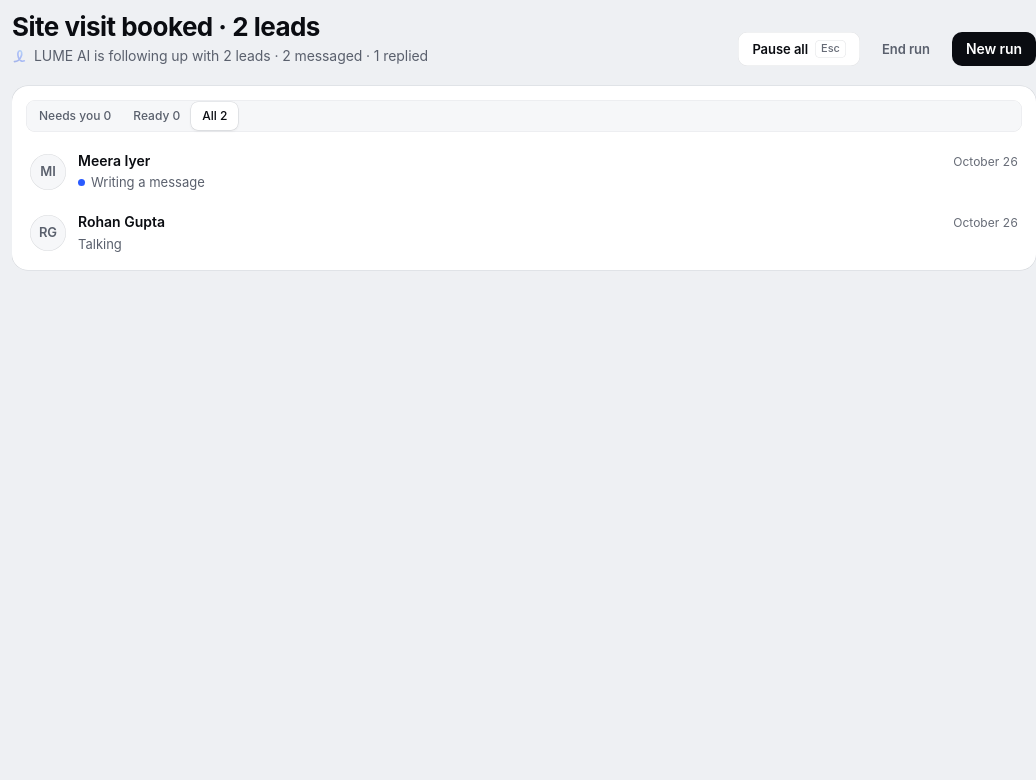
Test: AutopilotScreen › a phone: the list first; a lead opens its conversation, and Back returns to the list
Click the button "RG Rohan Gupta October 26 Talking" at (48, 233), box 20,203 -> 1028,262
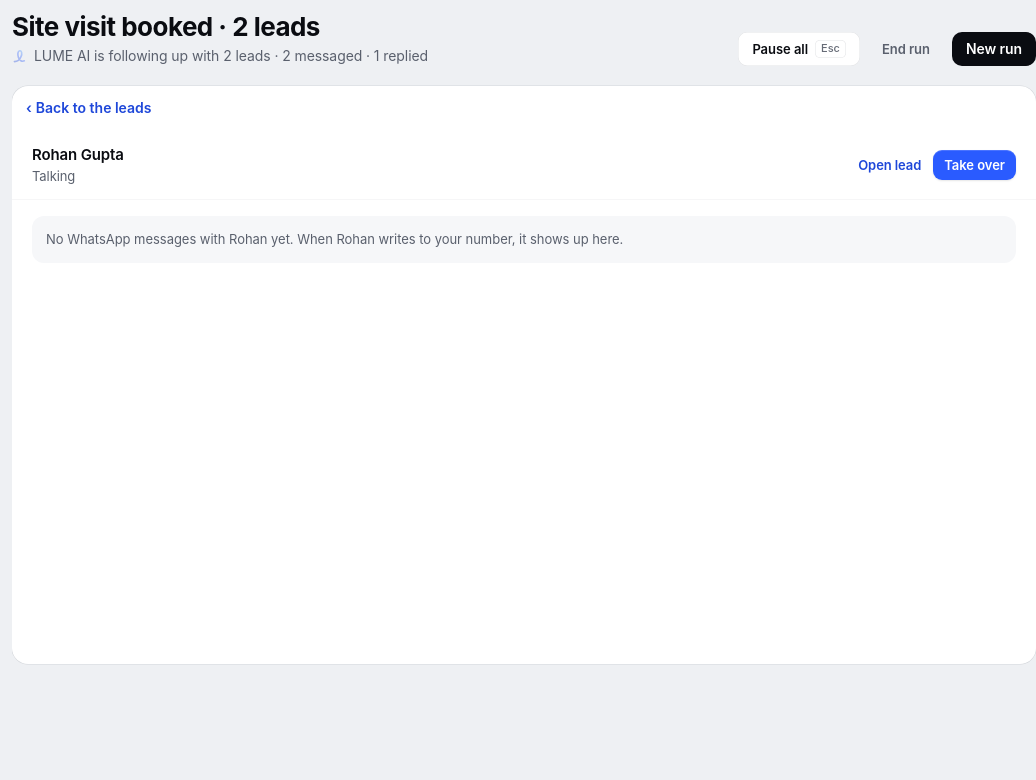
Expected: the element named "Conversation with Rohan Gupta" is shown, 12,130 -> 1035,263
Click the button "‹ Back to the leads" at (89, 108), box 12,86 -> 166,130
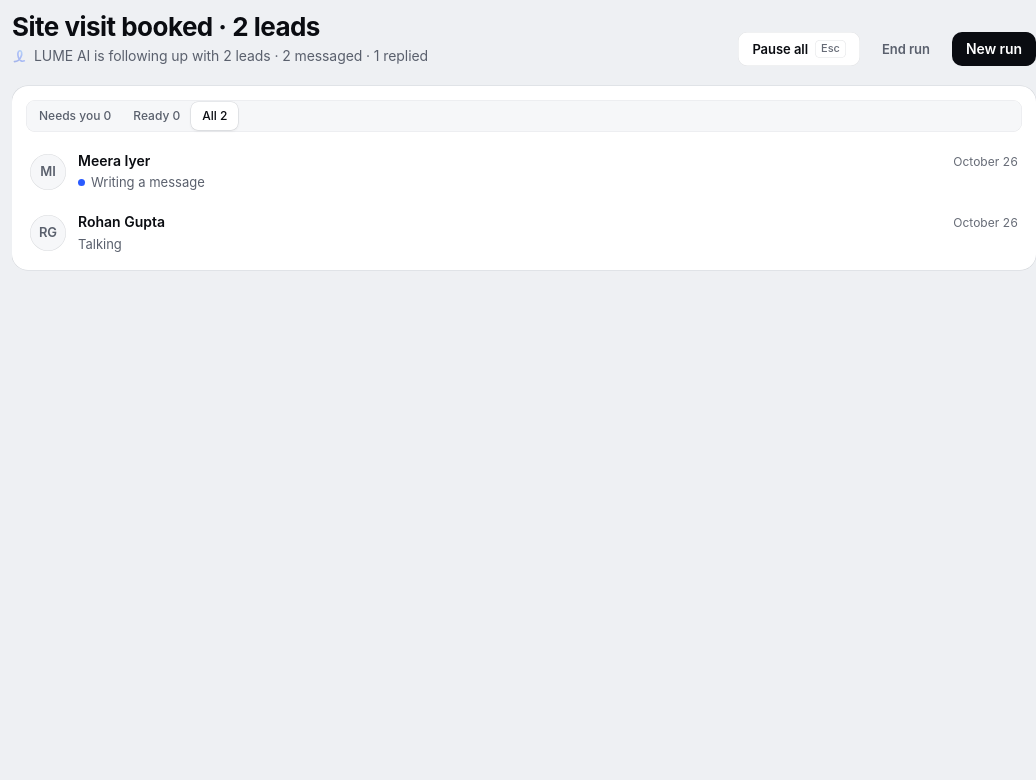
Expected: the list named "Leads in this run" is shown, 12,142 -> 1035,270
